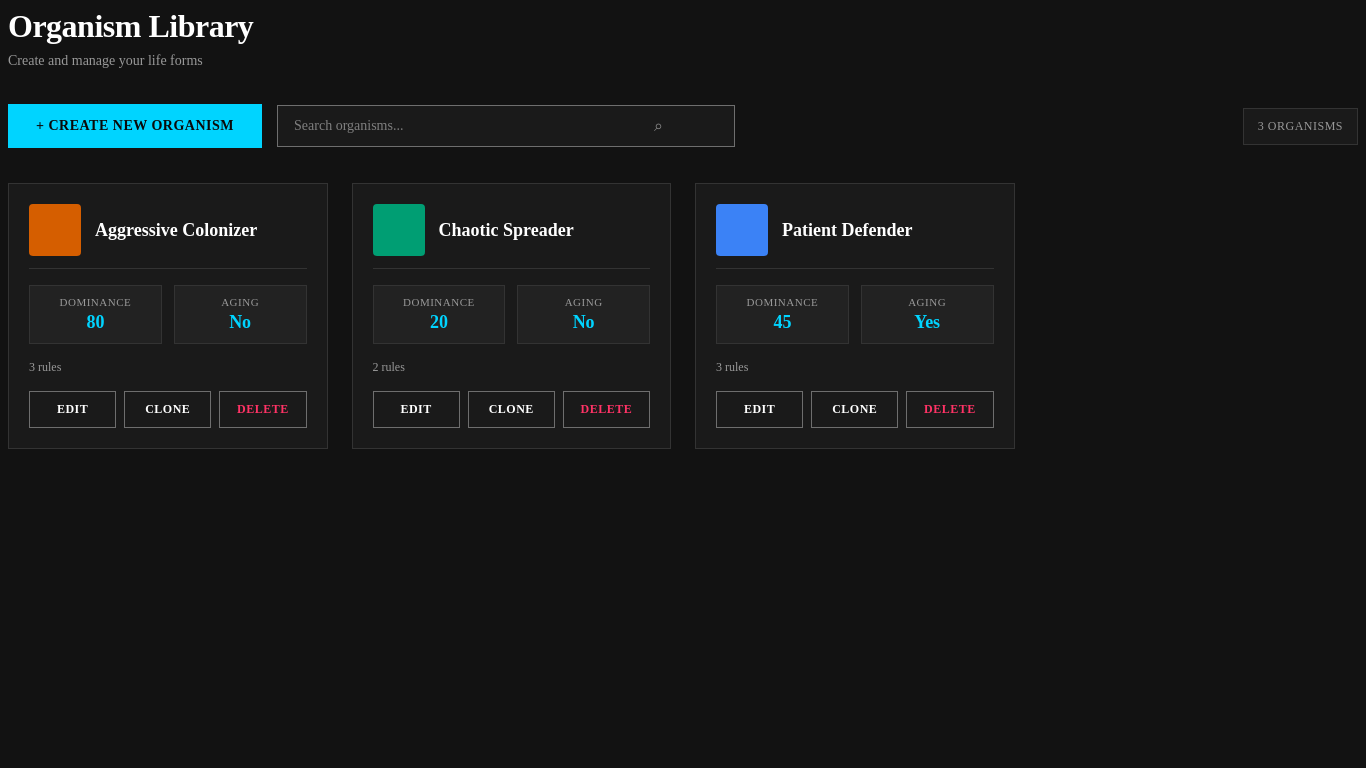
OrganismLibrary — editor modal shell (Story 4.3) › Close closes the editor and returns focus to the create button
Expected: the number of list items is 3, left=8, top=183, right=328, bottom=449; left=352, top=183, right=671, bottom=449; left=695, top=183, right=1014, bottom=449
Click the button "+ Create New Organism".
click(135, 126)  # box left=8, top=104, right=262, bottom=148
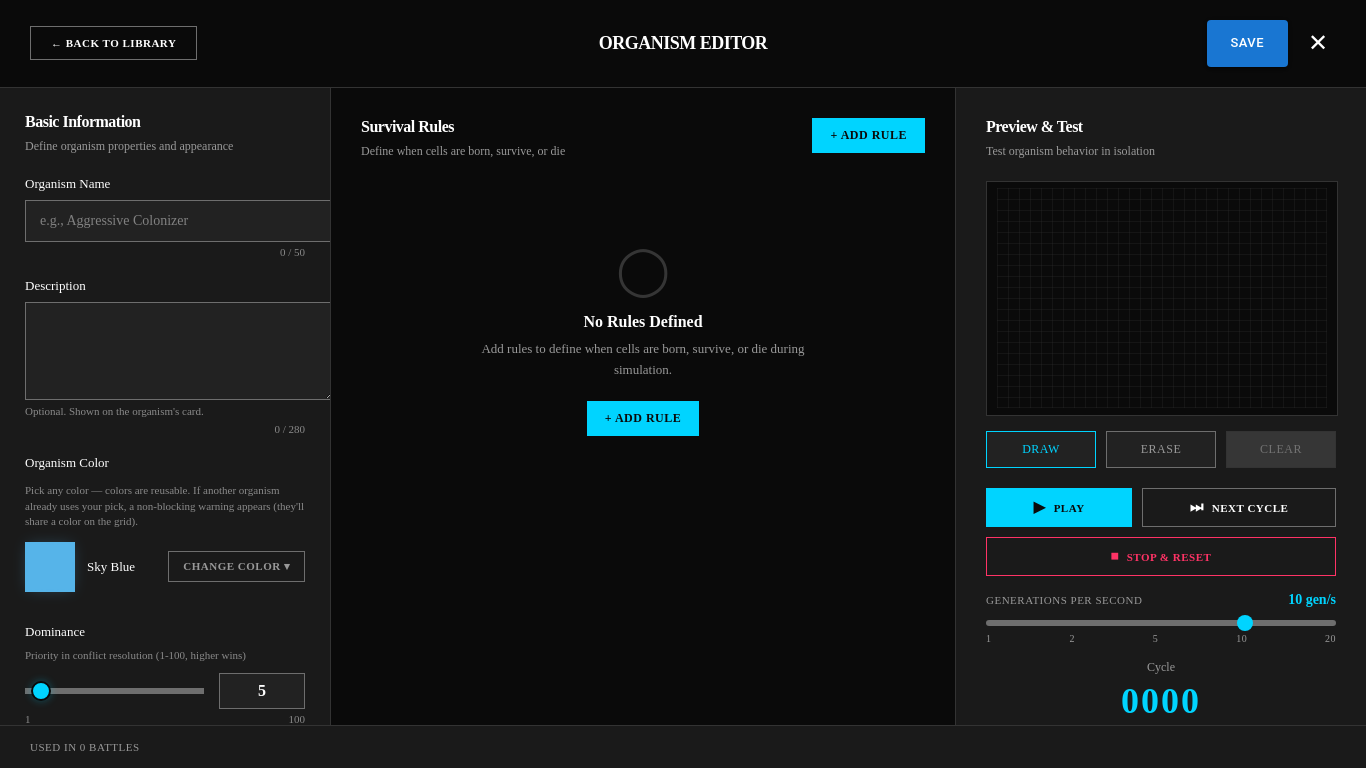
Expected: the dialog named "Organism Editor" is shown
Click the button named "Close".
click(1318, 43)  # box left=1300, top=21, right=1336, bottom=65
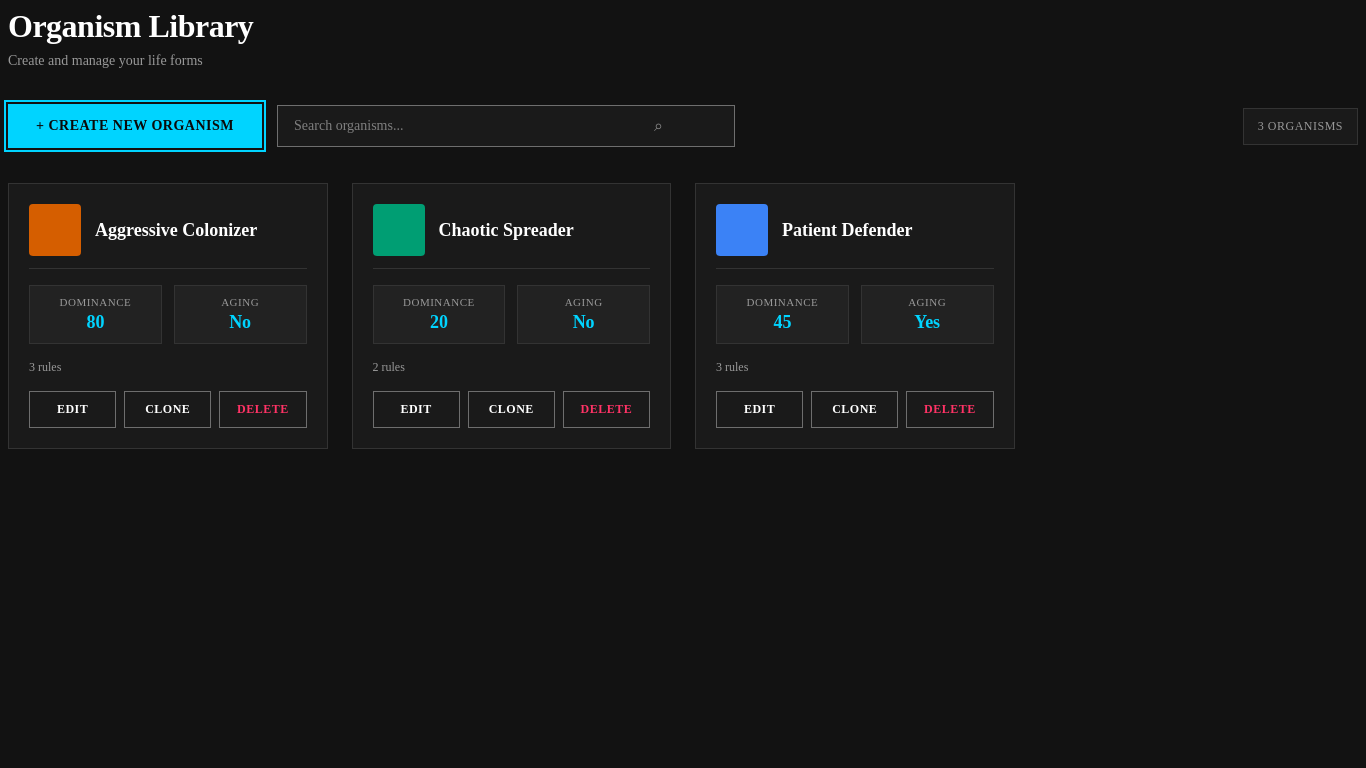
Expected: the dialog is gone
